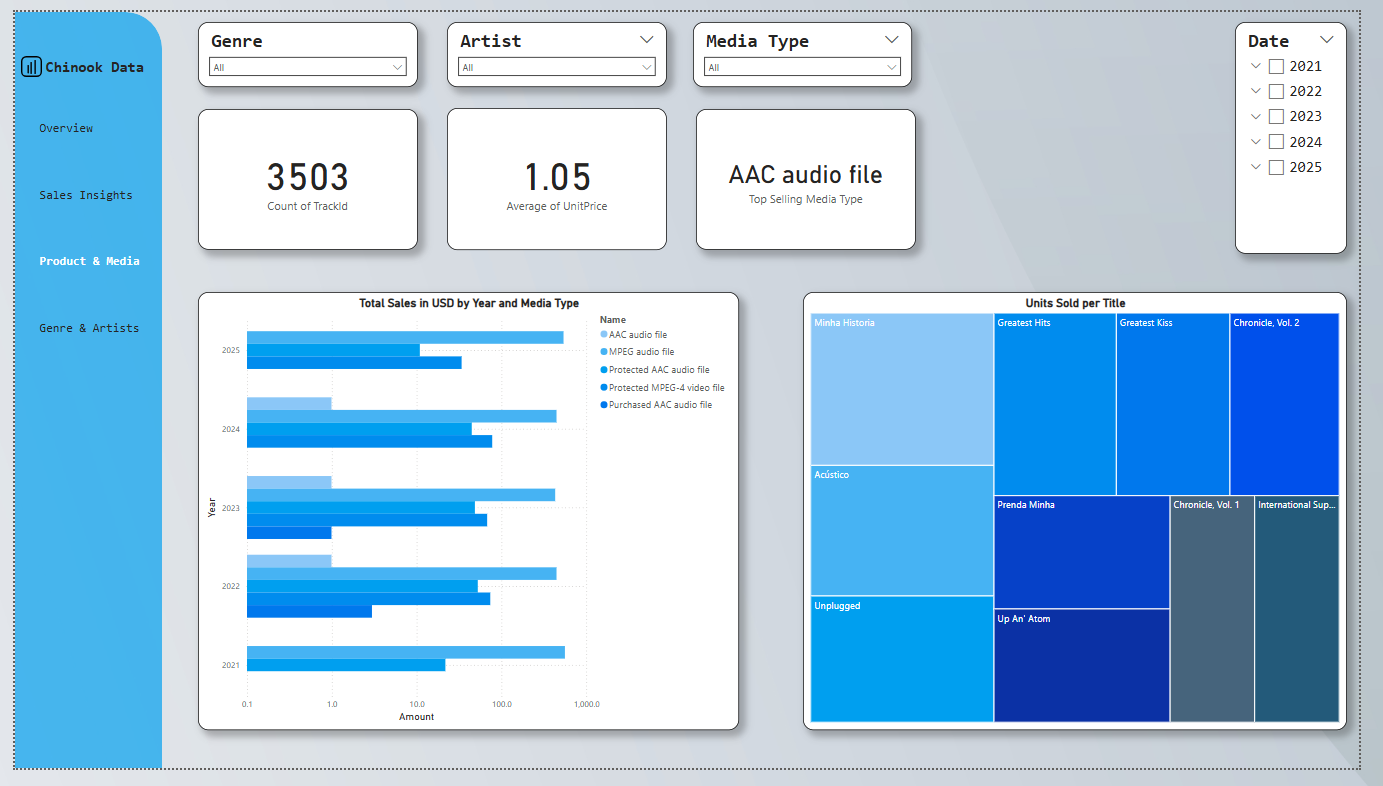

Layout of this report page (visuals, bound fields, positions):
{"tool":"powerbi","page":{"name":"Product & Media ","canvas":[1920,1080],"ordinal":2},"visuals":[{"type":"shape","box":[0,0,210,1080],"z":0},{"type":"shape","box":[12.7,75.8,12,12],"z":1000},{"type":"shape","box":[8.7,62.8,30,30],"z":2000},{"type":"shape","box":[17.7,70.8,12,17.2],"z":3000},{"type":"shape","box":[23,68,12,20.3],"z":4000},{"type":"textbox","box":[38.6,60,171.4,40],"z":5000},{"type":"slicer","fields":{"Values":["Artist.Name"]},"box":[617.1,14.3,314.3,92.9],"z":6000},{"type":"slicer","fields":{"Values":["MediaType.Name"]},"box":[968.6,14.3,312.9,92.9],"z":7000},{"type":"slicer","fields":{"Values":["Dim_Date.Year","Dim_Date.FullDate.Variation.Date Hierarchy.Quarter","Dim_Date.FullDate.Variation.Date Hierarchy.Month"]},"box":[1742.9,14.3,160,331.4],"z":8000},{"type":"pageNavigator","box":[0,122.9,210,371.4],"z":9000},{"type":"card","fields":{"Values":["Avg(Track.UnitPrice)"]},"box":[617.1,136.7,314.3,202.9],"z":10000},{"type":"treemap","title":"Units Sold per Title","fields":{"Values":["Sum(Sales_Analysis_Fact_Table_New.Quantity_Sold)"],"Group":["Album.Title"]},"box":[1125.7,400,777.1,625.7],"z":11000},{"type":"clusteredBarChart","title":"Total Sales in USD by Year and Media Type","fields":{"Category":["Dim_Date.FullDate.Variation.Date Hierarchy.Year"],"Y":["Sum(Sales_Analysis_Fact_Table_New.Sold_Dollar_Amount)"],"Series":["MediaType.Name"]},"box":[261.4,400,772.9,625.7],"z":12000},{"type":"card","fields":{"Values":["Min(MediaType.Name)"]},"box":[972.9,138.6,314.3,201.4],"z":13000},{"type":"slicer","fields":{"Values":["Genre.Name"]},"box":[261.6,13.9,313.8,92.5],"z":14000},{"type":"card","fields":{"Values":["CountNonNull(Track.TrackId)"]},"box":[261.4,138.6,314.3,201.4],"z":15000}]}

Visuals, with their boxes in screenshot pixels (x1, y1, x2, y2), scaled from the page's 1920x1080 canvas onto the 1383x786 screenshot:
shape: l=0, t=0, r=151, b=785
shape: l=9, t=55, r=18, b=64
shape: l=6, t=46, r=28, b=68
shape: l=13, t=52, r=21, b=64
shape: l=17, t=49, r=25, b=64
textbox: l=28, t=44, r=151, b=73
slicer - Artist.Name: l=445, t=10, r=671, b=78
slicer - MediaType.Name: l=698, t=10, r=923, b=78
slicer - Dim_Date.Year x Dim_Date.FullDate.Variation.Date Hierarchy.Quarter: l=1255, t=10, r=1371, b=252
pageNavigator: l=0, t=89, r=151, b=360
card - Avg(Track.UnitPrice): l=445, t=99, r=671, b=247
"Units Sold per Title" treemap: l=811, t=291, r=1371, b=746
"Total Sales in USD by Year and Media Type" clusteredBarChart: l=188, t=291, r=745, b=746
card - Min(MediaType.Name): l=701, t=101, r=927, b=247
slicer - Genre.Name: l=188, t=10, r=414, b=77
card - CountNonNull(Track.TrackId): l=188, t=101, r=415, b=247
